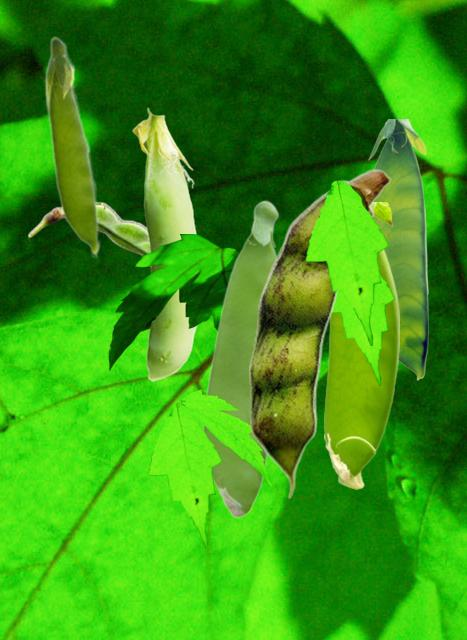pea: (249, 168, 390, 498), (202, 199, 279, 517), (324, 202, 398, 488), (132, 107, 199, 380), (367, 119, 427, 379), (44, 35, 100, 257), (28, 201, 149, 268)
